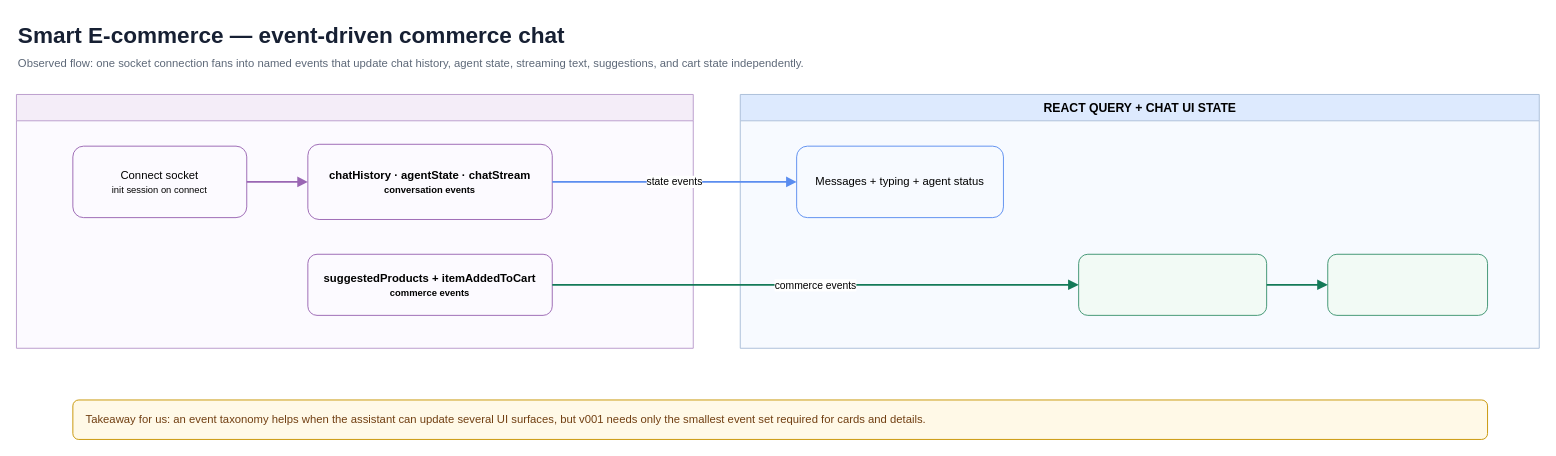
Some shapes in this 1556 by 456 pixel diagram are drawn without their labels. The box of each missing label's shape, as (x1, y1, x2, y2) in pixels:
Cart + query invalidation: (1327, 253, 1488, 315)
SOCKET EVENT BOUNDARY: (16, 94, 693, 348)
Suggested product surface: (1078, 253, 1267, 315)
